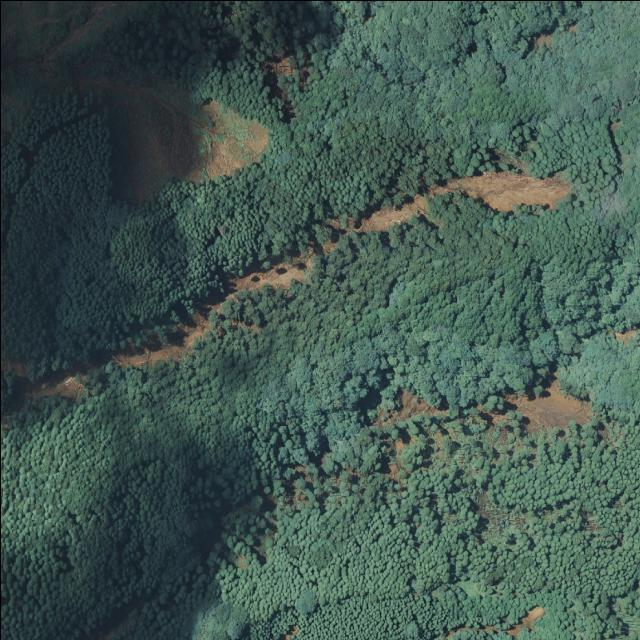landslide: (227, 194, 426, 292), (109, 297, 220, 366), (426, 170, 571, 211), (29, 374, 82, 397)
